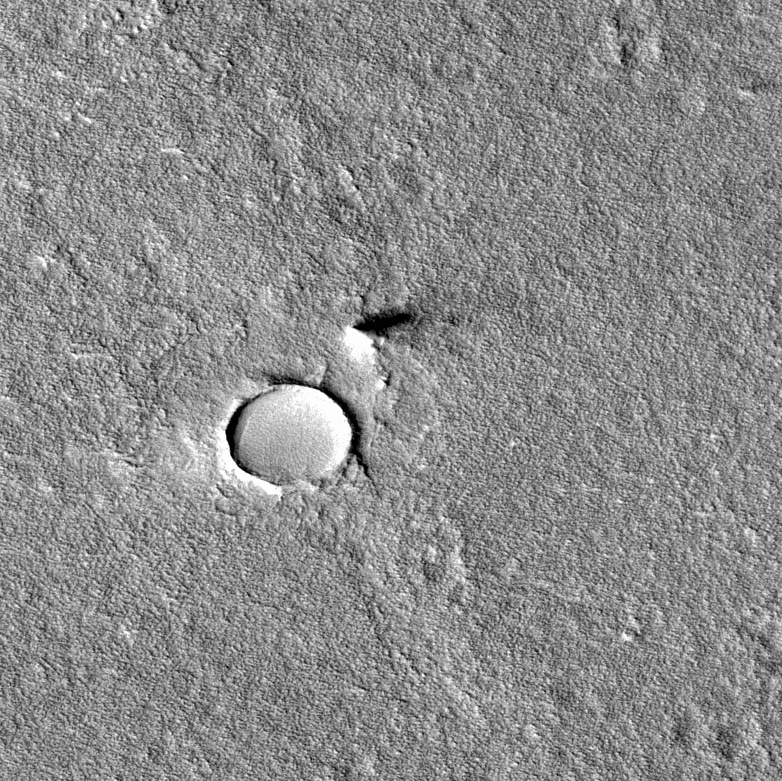dust_devil: (341, 302, 421, 367)
